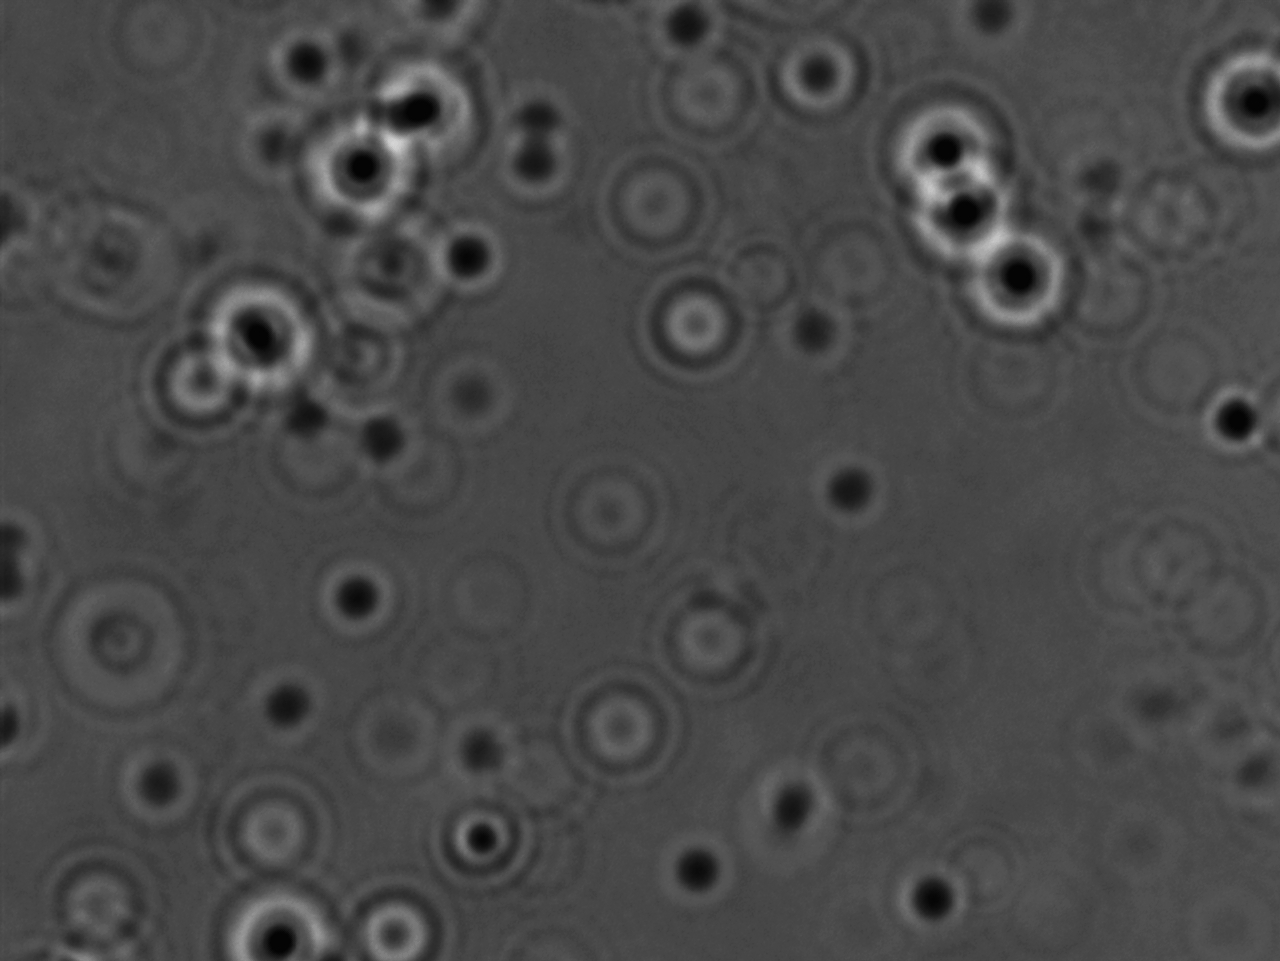depth:-24: (865, 70, 1041, 203), (198, 259, 336, 399), (292, 102, 421, 247), (950, 222, 1092, 348), (903, 161, 1035, 292), (1185, 20, 1280, 180), (208, 875, 350, 961)
